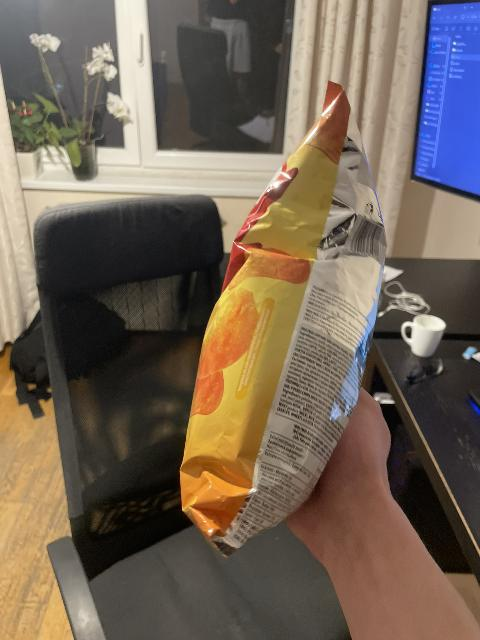Chio Cascaval 125g: (176, 81, 384, 557)
